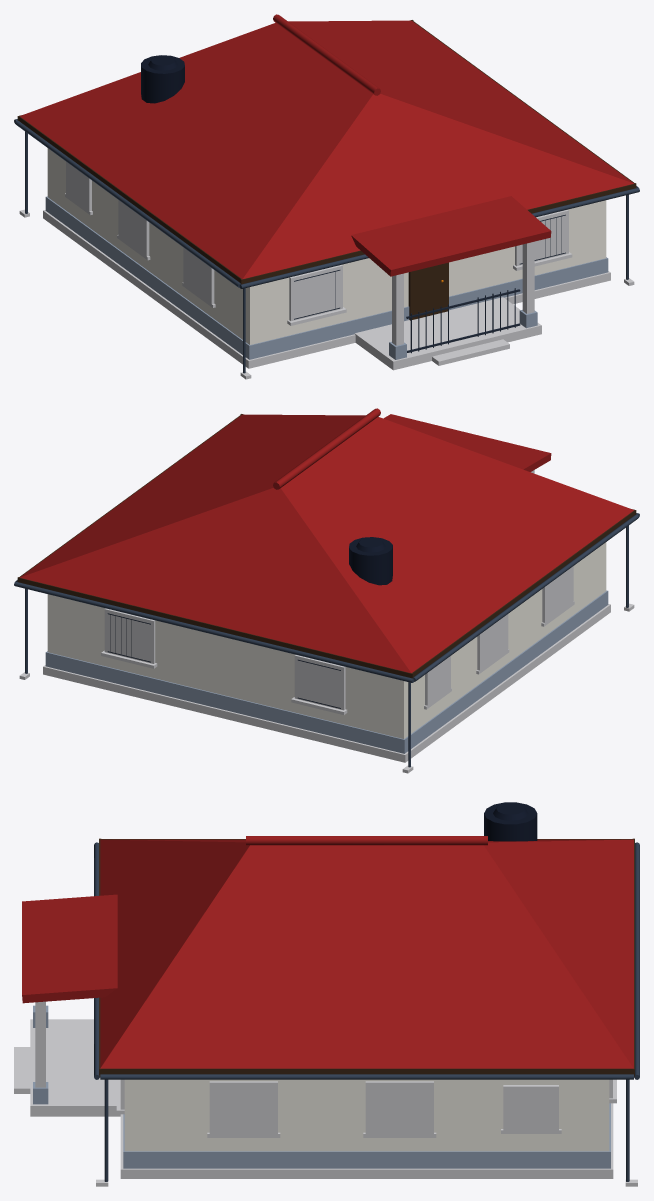
File: bld_bungalow_01.glb
3 views of the same model, one above another, from view 1: azimuth 30°, elevation 25°; view 2: azimuth 150°, elevation 25°; view 3: azimuth 270°, elevation 25° (orthographic). The views are drawn at different scales.
Parts seen in each view (by area): view 1: Bungalow_HippedRoof, Geo_LOD0, Bungalow_MainWalls, Bungalow_LOD1_Walls, Bungalow_Window_0, Bungalow_RooftopWaterTank, Bungalow_Window_1, Bungalow_Window_2, Bungalow_Window_3, Bungalow_Window_4, Bungalow_PorchColumn_1, Bungalow_PorchColumn_0; view 2: Bungalow_HippedRoof, Geo_LOD0, Bungalow_MainWalls, Bungalow_LOD1_Walls, Bungalow_Window_9, Bungalow_Window_8, Bungalow_RooftopWaterTank, Bungalow_Window_2, Bungalow_Window_3, Bungalow_Window_4; view 3: Bungalow_HippedRoof, Geo_LOD0, Bungalow_MainWalls, Bungalow_LOD1_Walls, Bungalow_Window_5, Bungalow_Window_6, Bungalow_Window_7, Bungalow_RooftopWaterTank, Bungalow_PorchColumn_1.
Boxes of the visible parts, box(x1,y1,x2,y2) form: Bungalow_HippedRoof: box(20, 20, 633, 279); Geo_LOD0: box(14, 14, 639, 379); Bungalow_MainWalls: box(47, 148, 606, 344); Bungalow_LOD1_Walls: box(47, 150, 606, 344); Bungalow_Window_0: box(287, 264, 346, 325); Bungalow_RooftopWaterTank: box(141, 55, 184, 103); Bungalow_Window_1: box(513, 209, 572, 270); Bungalow_Window_2: box(182, 247, 215, 307); Bungalow_Window_3: box(117, 200, 150, 260); Bungalow_Window_4: box(65, 161, 92, 215); Bungalow_PorchColumn_1: box(522, 241, 534, 313); Bungalow_PorchColumn_0: box(392, 273, 403, 345); Bungalow_HippedRoof: box(20, 414, 633, 673); Geo_LOD0: box(14, 408, 639, 773); Bungalow_MainWalls: box(47, 542, 606, 738); Bungalow_LOD1_Walls: box(47, 549, 605, 738); Bungalow_Window_9: box(101, 608, 157, 668); Bungalow_Window_8: box(291, 655, 347, 714); Bungalow_RooftopWaterTank: box(349, 537, 392, 585); Bungalow_Window_2: box(541, 566, 574, 626); Bungalow_Window_3: box(476, 614, 509, 674); Bungalow_Window_4: box(424, 656, 451, 709); Bungalow_HippedRoof: box(100, 839, 633, 1068); Geo_LOD0: box(14, 836, 639, 1186); Bungalow_MainWalls: box(124, 1079, 609, 1151); Bungalow_LOD1_Walls: box(124, 1079, 609, 1151); Bungalow_Window_5: box(207, 1081, 280, 1137); Bungalow_Window_6: box(363, 1081, 436, 1137); Bungalow_Window_7: box(501, 1085, 561, 1133); Bungalow_RooftopWaterTank: box(484, 802, 537, 841); Bungalow_PorchColumn_1: box(35, 1001, 45, 1087).
Size of what is drawn, in the model's own units: 13.5 by 6.37 by 15.25.
